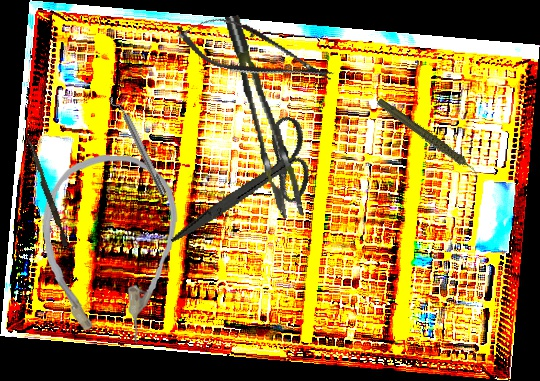Cannula: (37, 153, 180, 345)
Fixation Ring: (107, 90, 172, 200)
Handpiece: (375, 80, 481, 198)
Iris Scissors: (170, 93, 328, 280)
Micro Scissor: (169, 4, 341, 101)
Pusher: (22, 137, 72, 247)
Tissue Forceps: (225, 9, 304, 223)
